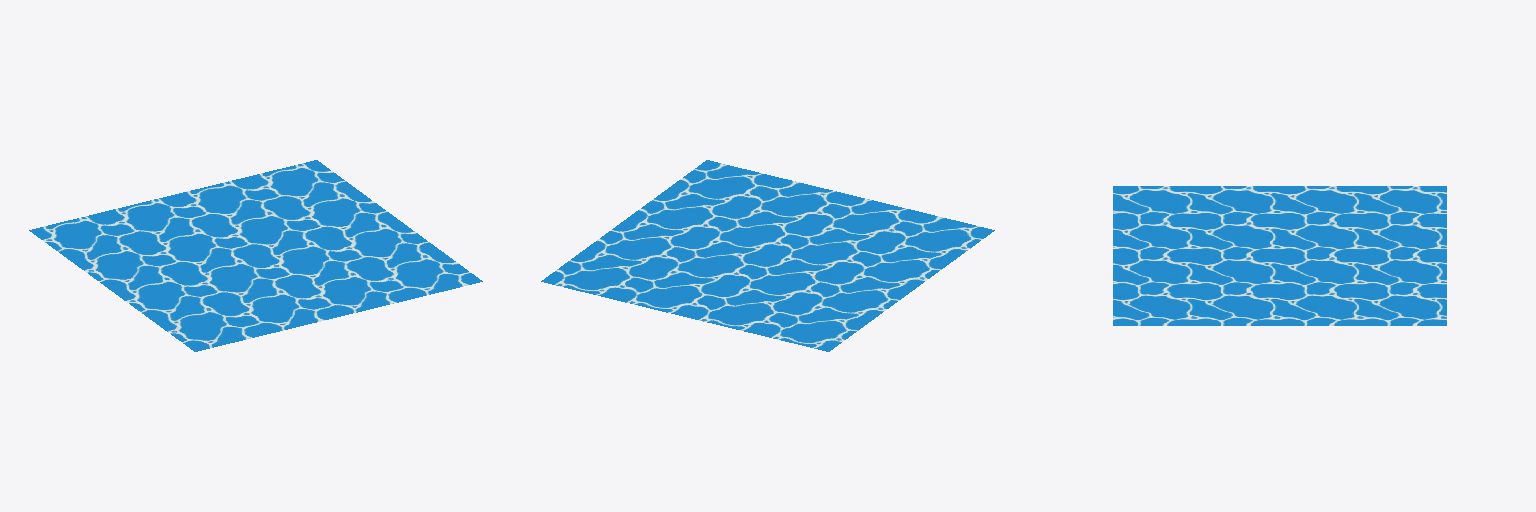
3 renders of one model, left to right at view 1: azimuth 30°, elevation 25°; view 2: azimuth 150°, elevation 25°; view 3: azimuth 270°, elevation 25°, orthographic.
Visible parts, largest first — view 1: Plane; view 2: Plane; view 3: Plane.
Part boxes in pixels (left/top/right/bottom): Plane: left=29, top=160, right=482, bottom=351; Plane: left=541, top=160, right=994, bottom=351; Plane: left=1113, top=186, right=1446, bottom=325.
Size of the model in its own units: 48.54 by 0 by 48.54.
1 materials, 1 textured.